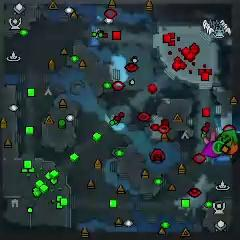p3: (201, 142, 219, 158)
p5: (227, 142, 238, 155)
x1: (204, 130, 216, 145)
x4: (221, 129, 238, 147)
